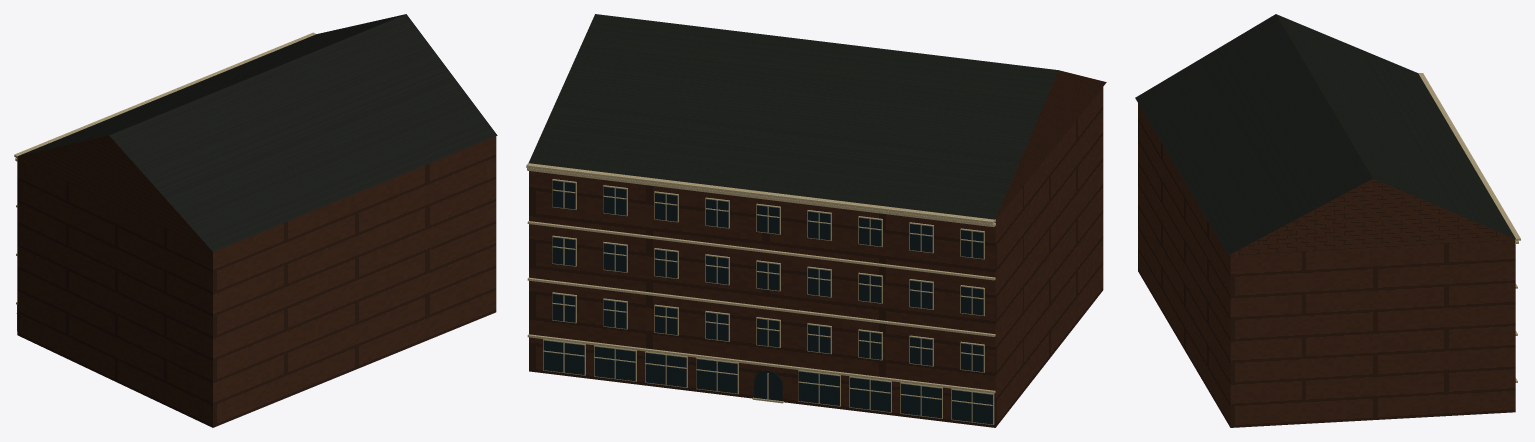
The picture shows the model from 3 angles, left to right: view 1: azimuth 30°, elevation 25°; view 2: azimuth 150°, elevation 25°; view 3: azimuth 270°, elevation 25°; orthographic projection. The views are drawn at different scales.
Parts seen in each view (by area): view 1: bank-mees-beursplein-0, bank-mees-beursplein-1, bank-mees-beursplein-2; view 2: bank-mees-beursplein-0, bank-mees-beursplein-1, bank-mees-beursplein-3, bank-mees-beursplein-2; view 3: bank-mees-beursplein-0, bank-mees-beursplein-1, bank-mees-beursplein-2.
Part boxes in pixels (x1,y1,x2,y2): bank-mees-beursplein-0: (17,135,496,427); bank-mees-beursplein-1: (19,14,497,251); bank-mees-beursplein-2: (14,32,316,330); bank-mees-beursplein-0: (529,70,1106,427); bank-mees-beursplein-1: (528,14,1058,219); bank-mees-beursplein-3: (543,180,992,424); bank-mees-beursplein-2: (526,163,995,424); bank-mees-beursplein-0: (1138,103,1515,427); bank-mees-beursplein-1: (1135,14,1515,255); bank-mees-beursplein-2: (1418,73,1520,382).
Size of the model in its own units: 45.14 by 28 by 40.53.
4 materials, 4 textured.
